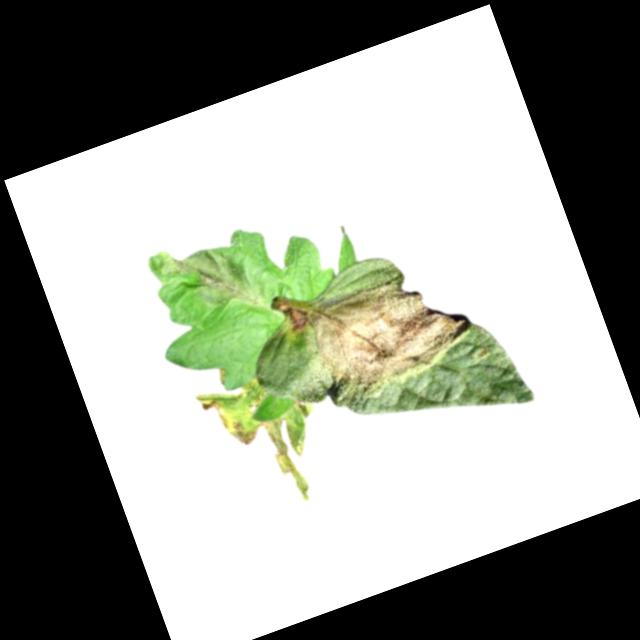Late_blight: (283, 249, 481, 406), (191, 360, 332, 525), (144, 222, 261, 338)
